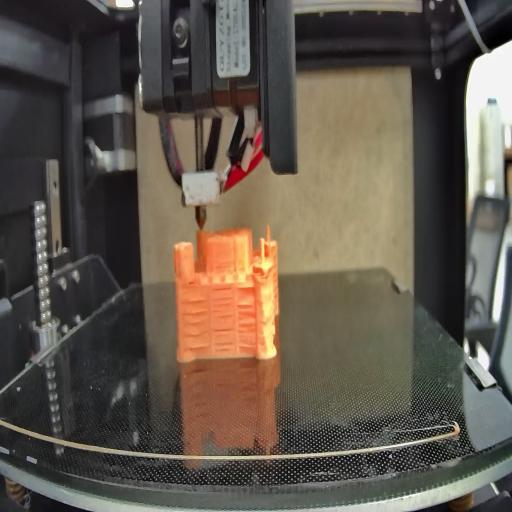cracks: (180, 298, 210, 351), (236, 302, 256, 352), (212, 289, 234, 323), (214, 329, 232, 351), (235, 284, 258, 292)
